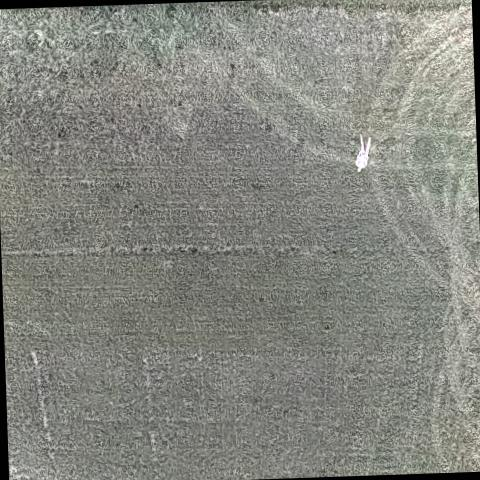person: (350, 134, 374, 175)
